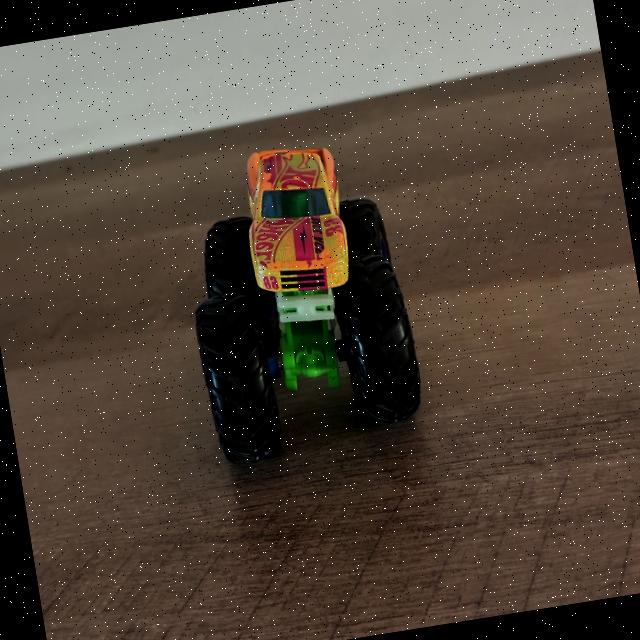cars: (196, 149, 420, 463)
